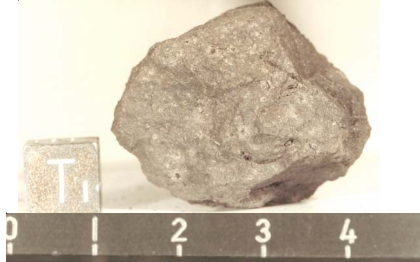Basalt: (117, 25, 389, 201)
